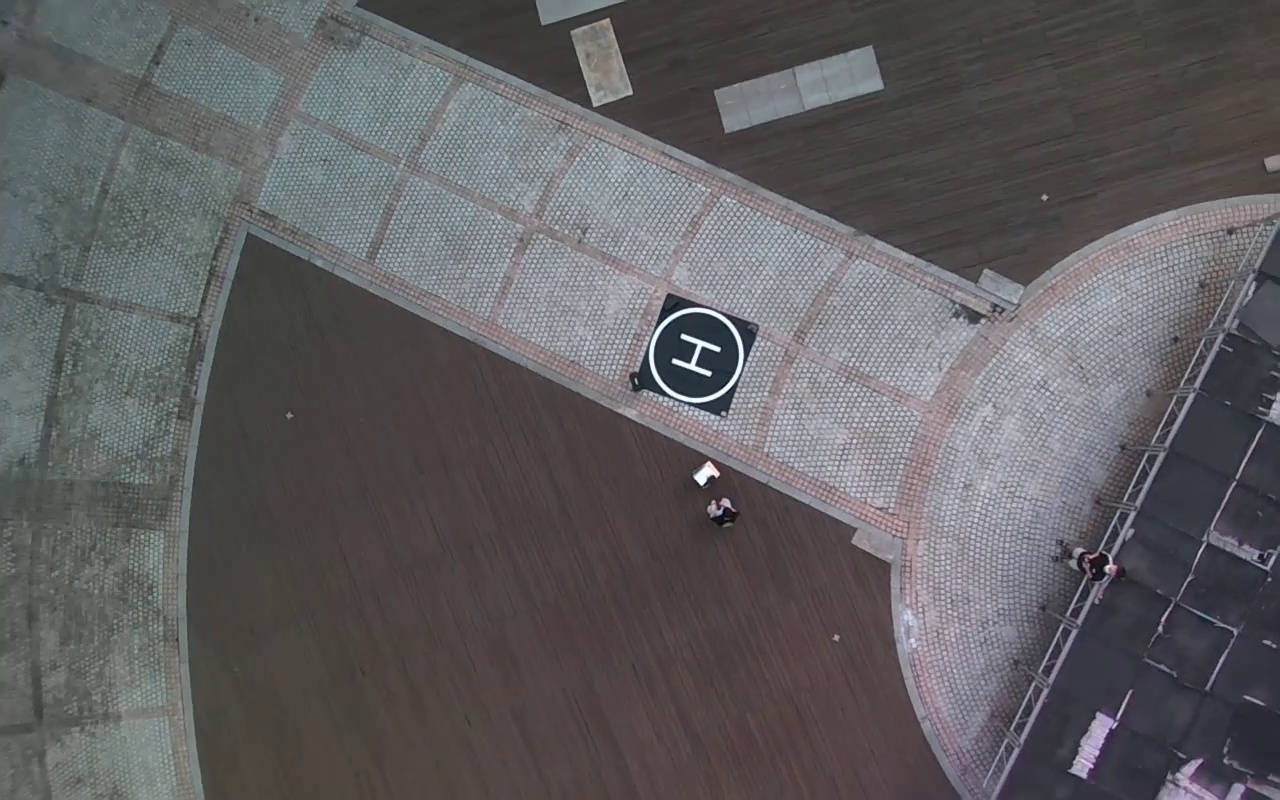H: (671, 334, 722, 380)
heliport: (649, 306, 745, 402)
